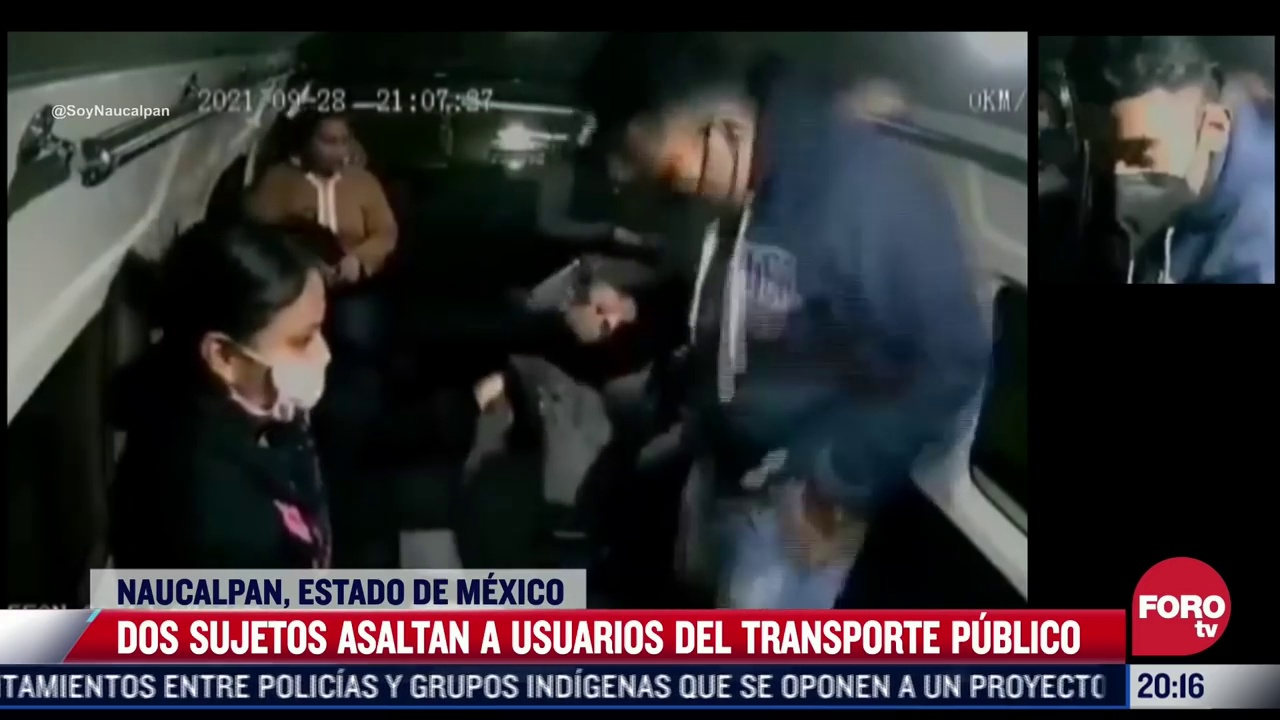pistol: (522, 255, 615, 339)
